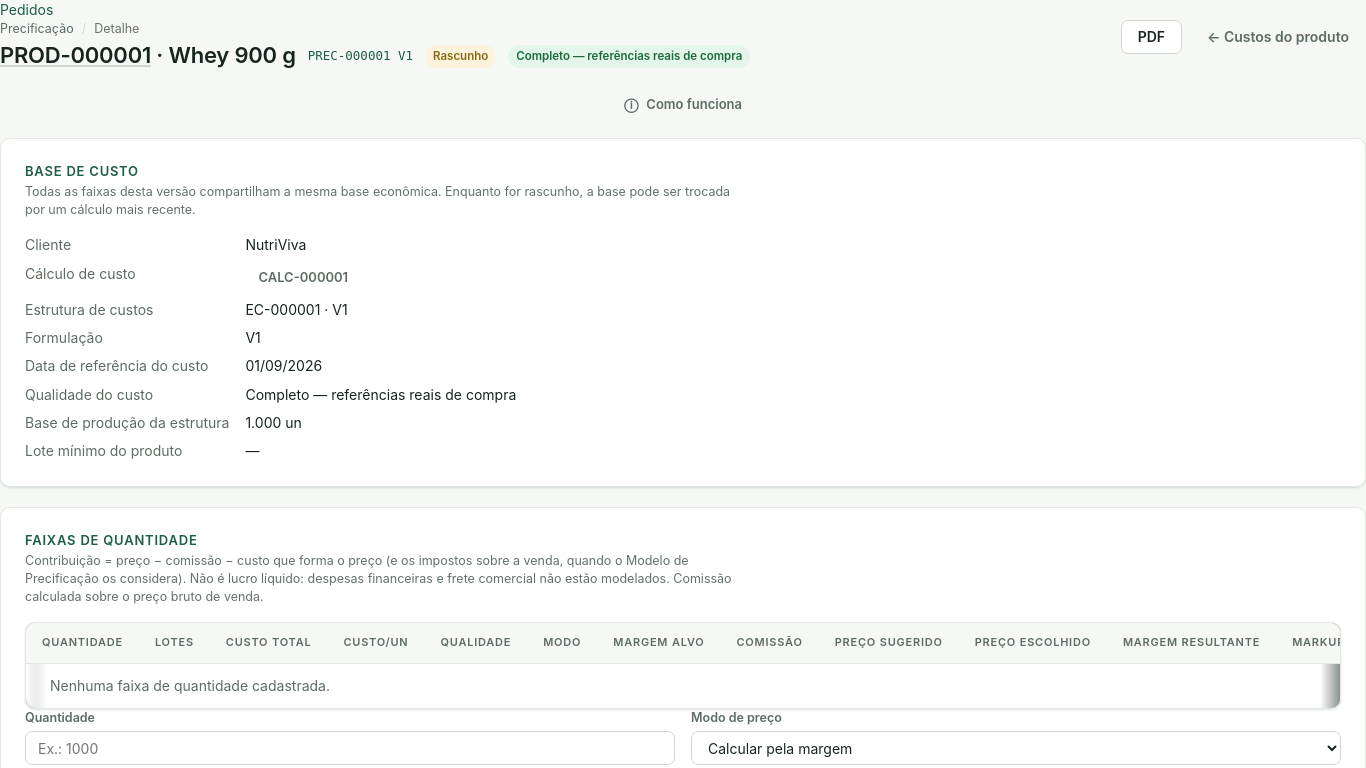
Precificação — guarda de alterações não salvas › quantidade digitada pergunta antes de sair
Type "500" into the field labelled "Quantidade".
click(350, 748); type("500")  # box x1=25 y1=732 x2=675 y2=766
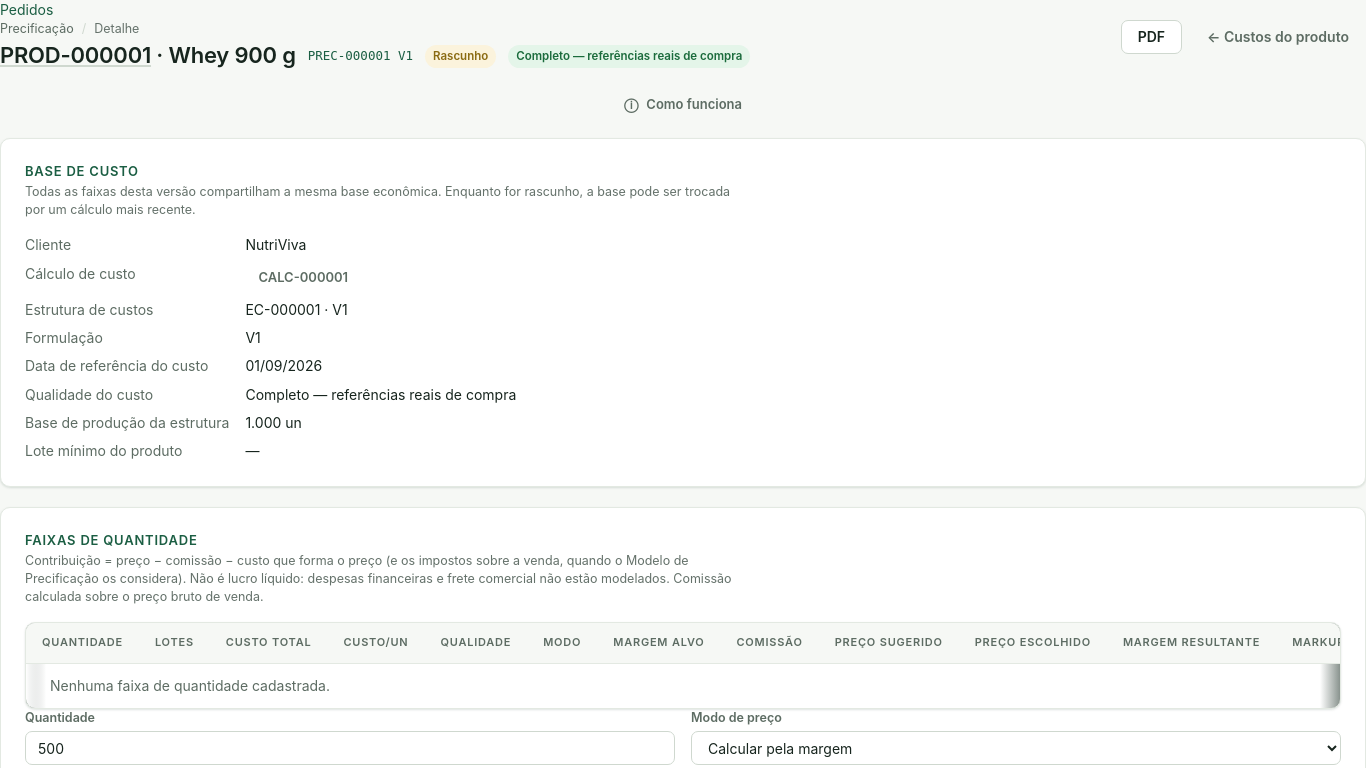
Click the link "Pedidos".
click(27, 10)  # box x1=0 y1=1 x2=53 y2=18
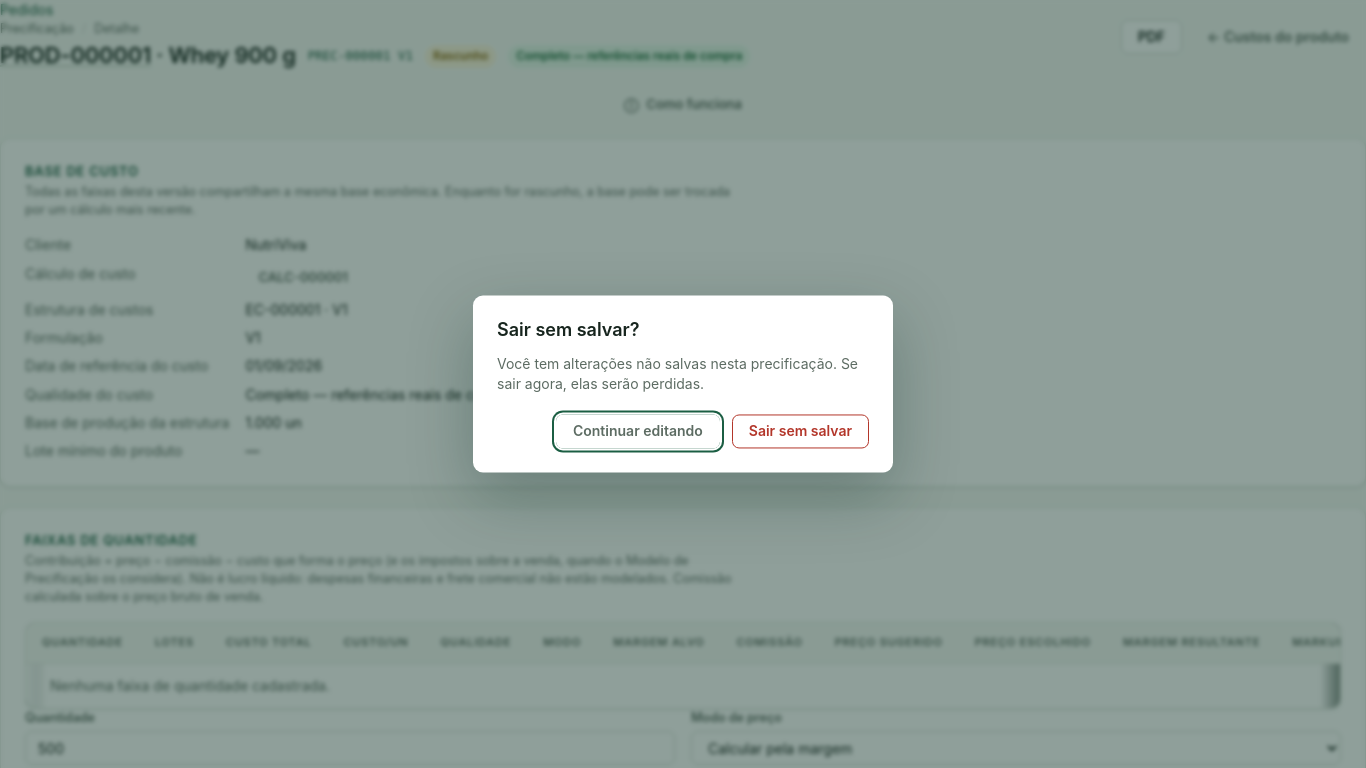
Expected: the heading "Sair sem salvar?" is shown, x1=497 y1=320 x2=640 y2=340
Expected: the text "alterações não salvas nesta precificação" is shown, x1=497 y1=354 x2=869 y2=395
